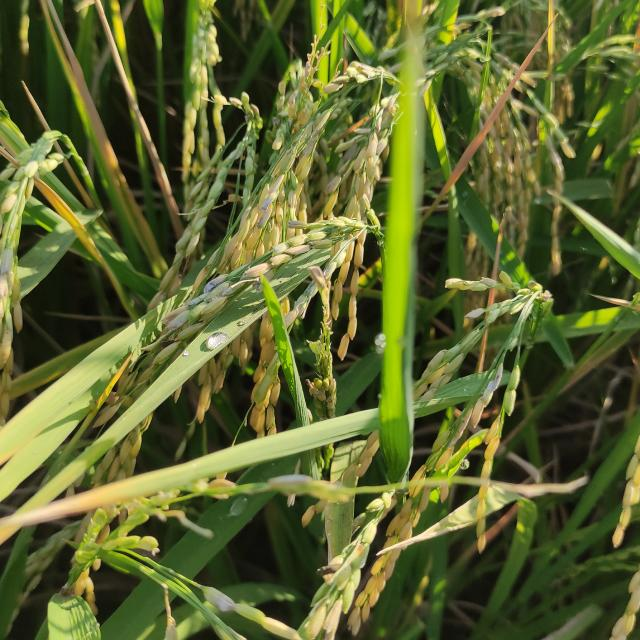Brown spot: (420, 12, 563, 225)
